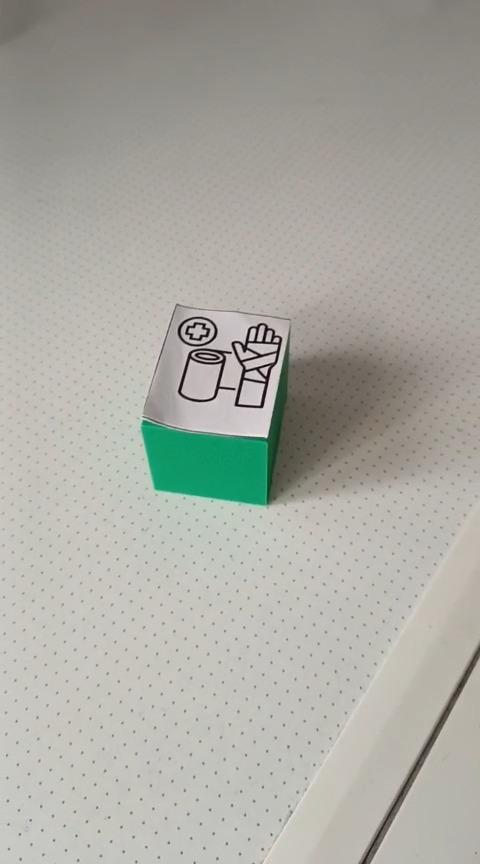Bandages: (142, 303, 291, 508)
